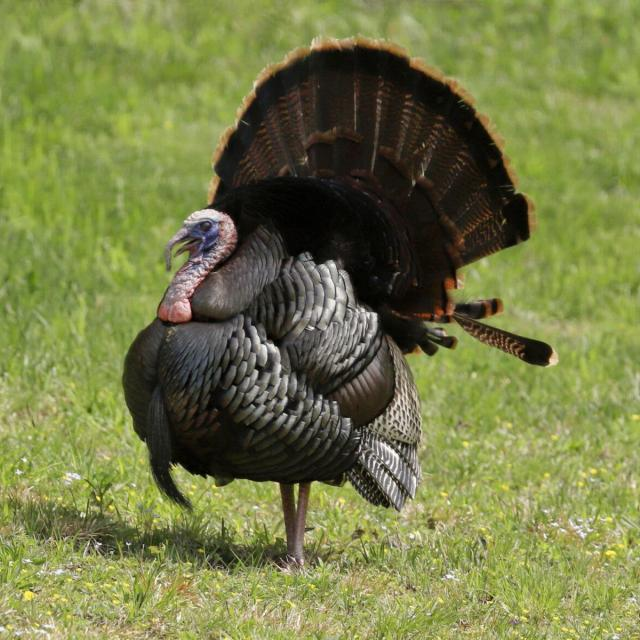turkey: (124, 40, 556, 564)
